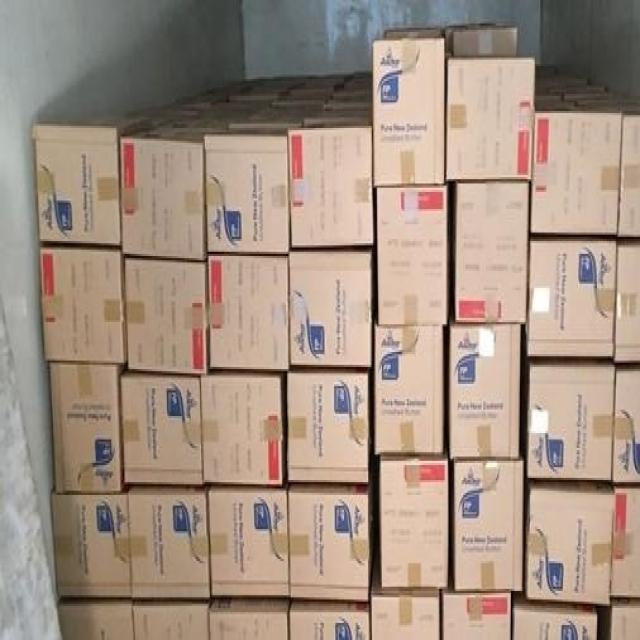box: (530, 111, 621, 235), (446, 58, 535, 181), (373, 38, 445, 186), (33, 124, 121, 245), (527, 239, 617, 356), (121, 137, 205, 260), (455, 183, 529, 322), (205, 134, 290, 254), (527, 484, 612, 604), (39, 247, 125, 365), (290, 128, 373, 247), (450, 320, 521, 459), (377, 186, 448, 324), (290, 250, 372, 369), (527, 365, 612, 478), (288, 484, 369, 602), (209, 254, 290, 371), (125, 260, 207, 375), (51, 363, 123, 493), (128, 486, 210, 599), (374, 322, 444, 454), (120, 373, 202, 484), (379, 459, 448, 589), (454, 461, 522, 591), (287, 373, 368, 482), (202, 375, 282, 484), (210, 486, 290, 595), (51, 495, 129, 599), (372, 559, 439, 640), (443, 591, 511, 640), (612, 369, 640, 484), (612, 486, 640, 597), (512, 604, 598, 640), (290, 602, 369, 640), (615, 243, 640, 363), (617, 105, 640, 235), (210, 602, 288, 640), (58, 602, 134, 640), (134, 602, 209, 640), (452, 26, 517, 58), (611, 606, 640, 640)
